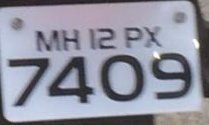character: (48, 55, 93, 104), (99, 53, 144, 102), (7, 57, 49, 105), (150, 52, 191, 99), (35, 29, 60, 52), (123, 26, 143, 49), (60, 29, 80, 50), (143, 25, 161, 48), (98, 28, 117, 49), (88, 27, 96, 51)
